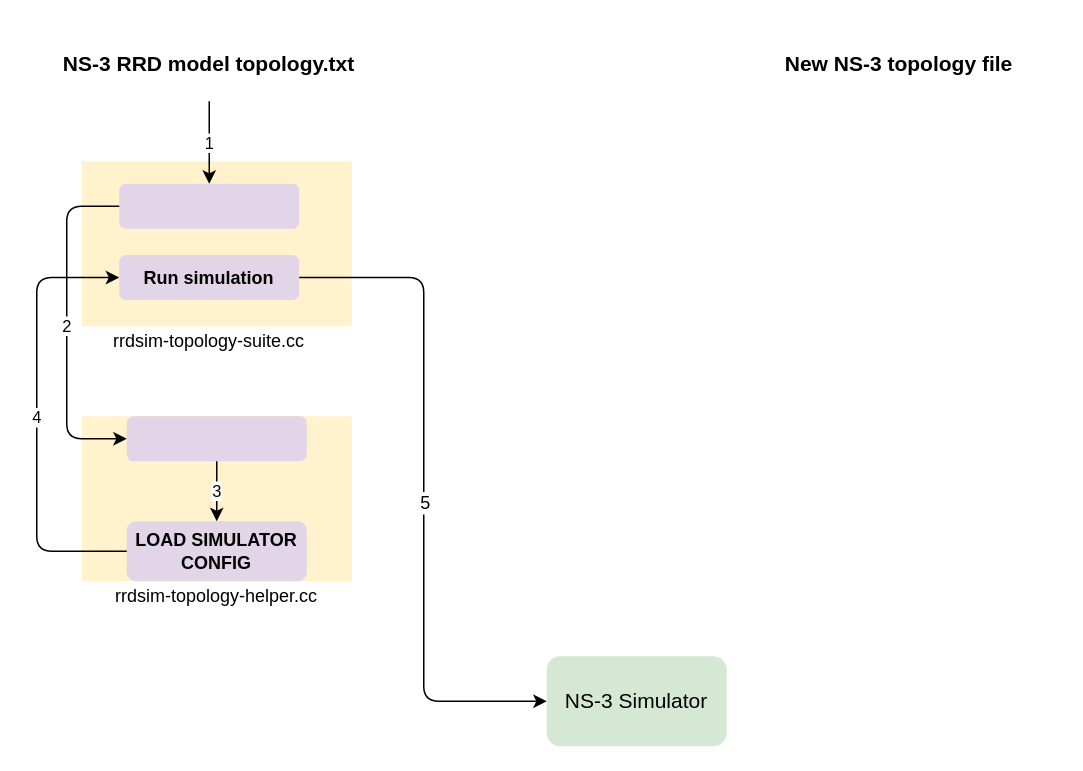
The diagram is 1083 pixels wide and 771 high, and some of its shapes have lost their labels. Each missing label, with the box of its shape:
Init: (118, 183, 298, 228)
Topology Parser: (126, 416, 306, 460)
